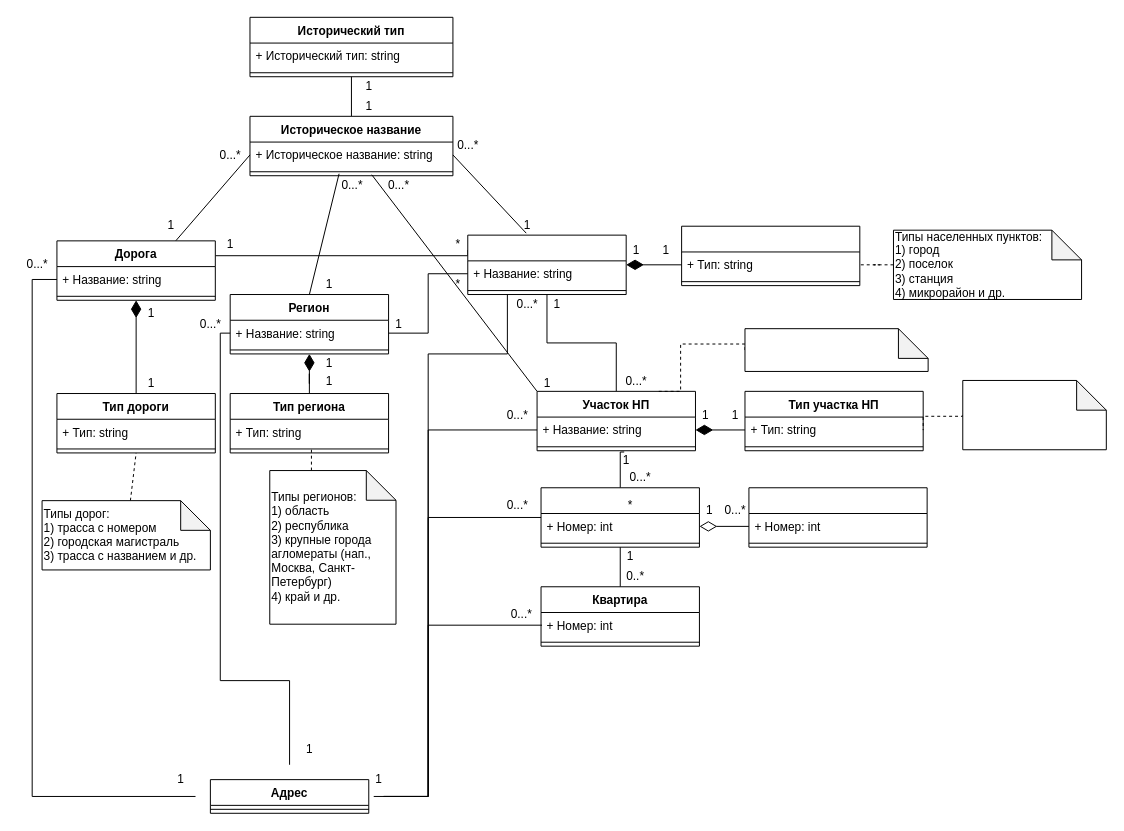
The diagram is 1124 pixels wide and 831 high, and some of its shapes have lost their labels. The box of each missing label's shape, as (x1, y1, x2, y2) in pixels:
Дом: (540, 487, 699, 547)
Корпус: (748, 487, 927, 547)
Населенный пункт: (467, 234, 626, 295)
НП- населенный пункт: (744, 328, 928, 371)
Тип населенного пункта: (681, 225, 860, 286)
Типы участков НП: 1) улица 2) площадь 3) парк и др.: (962, 379, 1106, 450)
